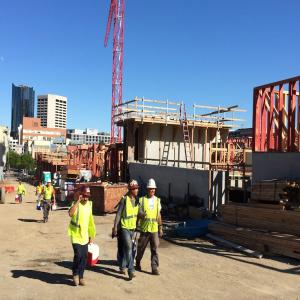red: (81, 185, 91, 204), (129, 180, 140, 196), (39, 182, 42, 187), (20, 182, 23, 186)
white: (148, 179, 157, 198), (48, 179, 52, 187)
